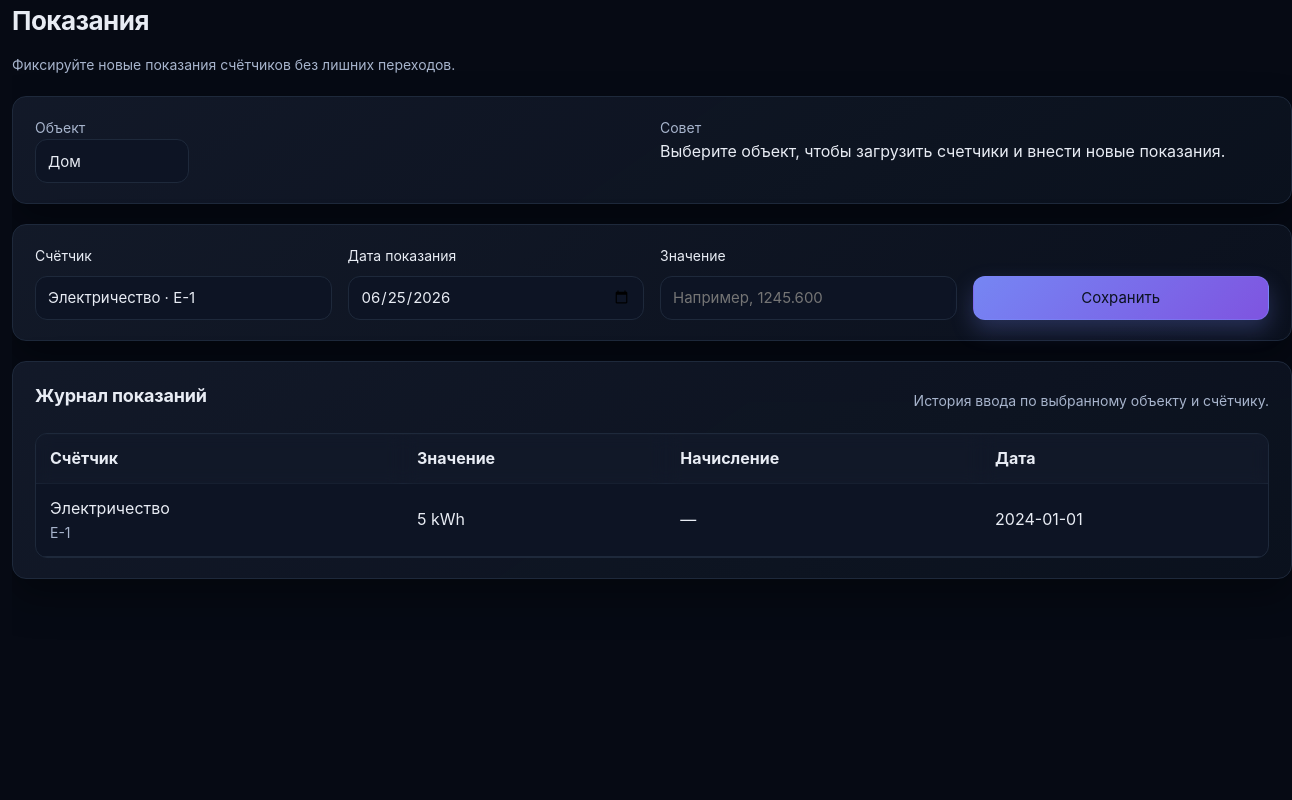
ReadingsPage › loads meters and validates input
The image size is (1292, 800).
Expected: the heading "Журнал показаний" is shown, top-left (35, 382), bottom-right (207, 411)
Select "Электричество · E-1" in the dropdown labelled "Счётчик" at (183, 298), box top-left (35, 276), bottom-right (332, 320)
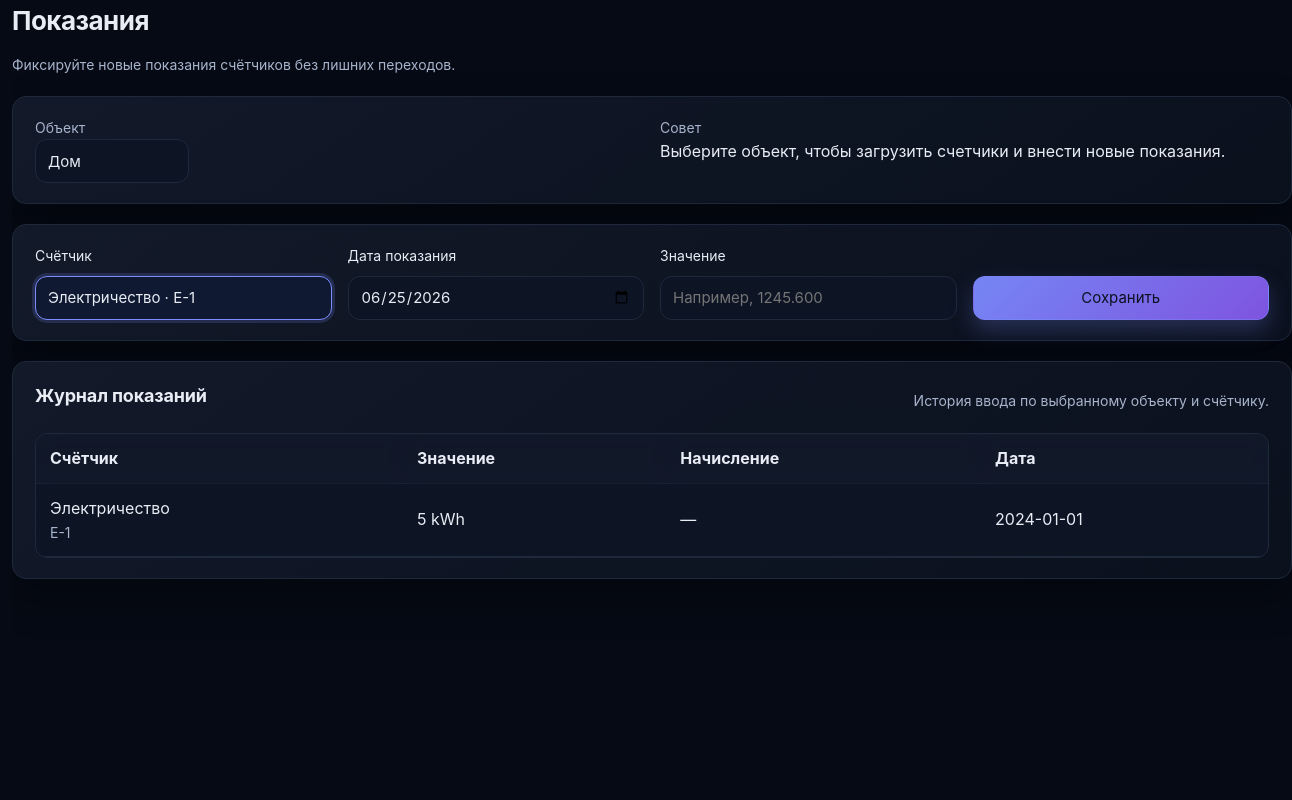
Expected: the text "5 kWh" is shown, top-left (403, 484), bottom-right (666, 557)
Type "0" into the number field labelled "Значение".
click(808, 298); type("0")  # box top-left (660, 276), bottom-right (956, 320)
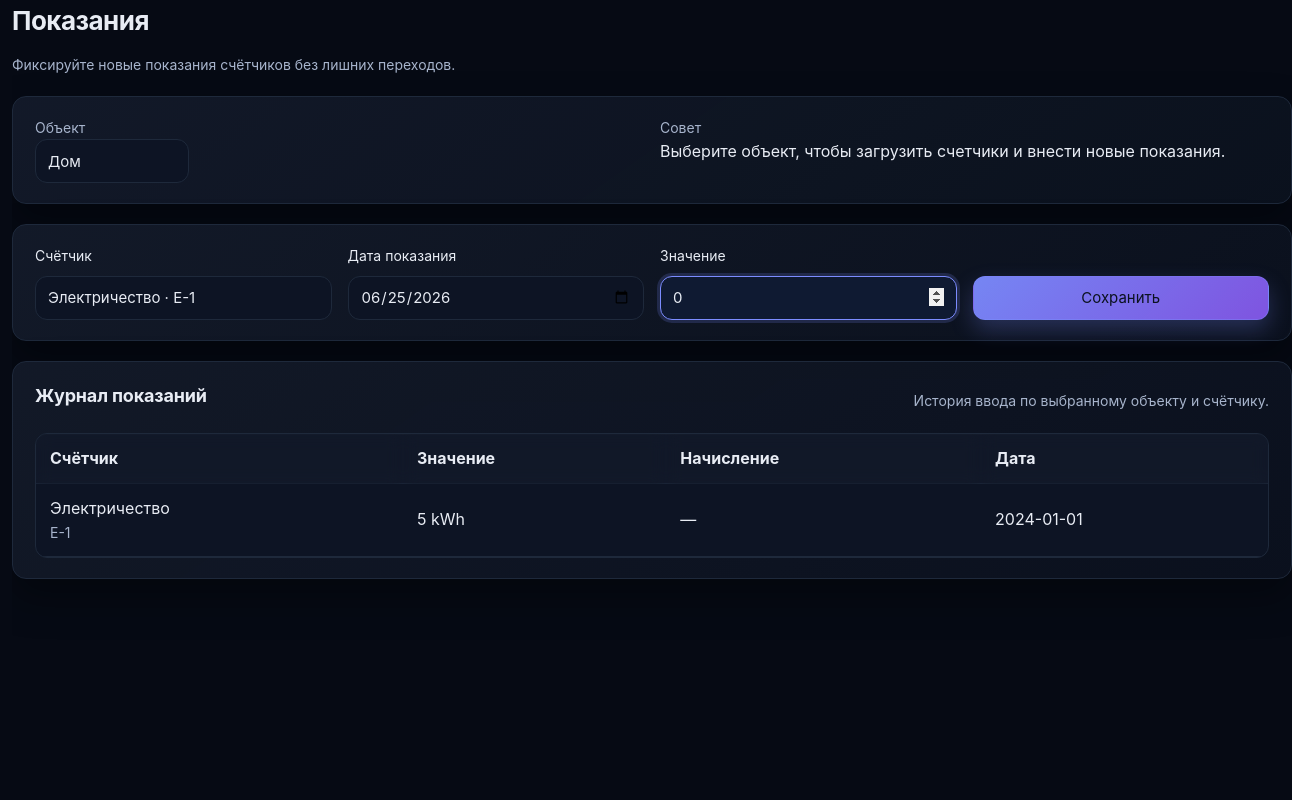
Click the button "Сохранить".
click(1121, 298)  # box top-left (972, 276), bottom-right (1269, 320)
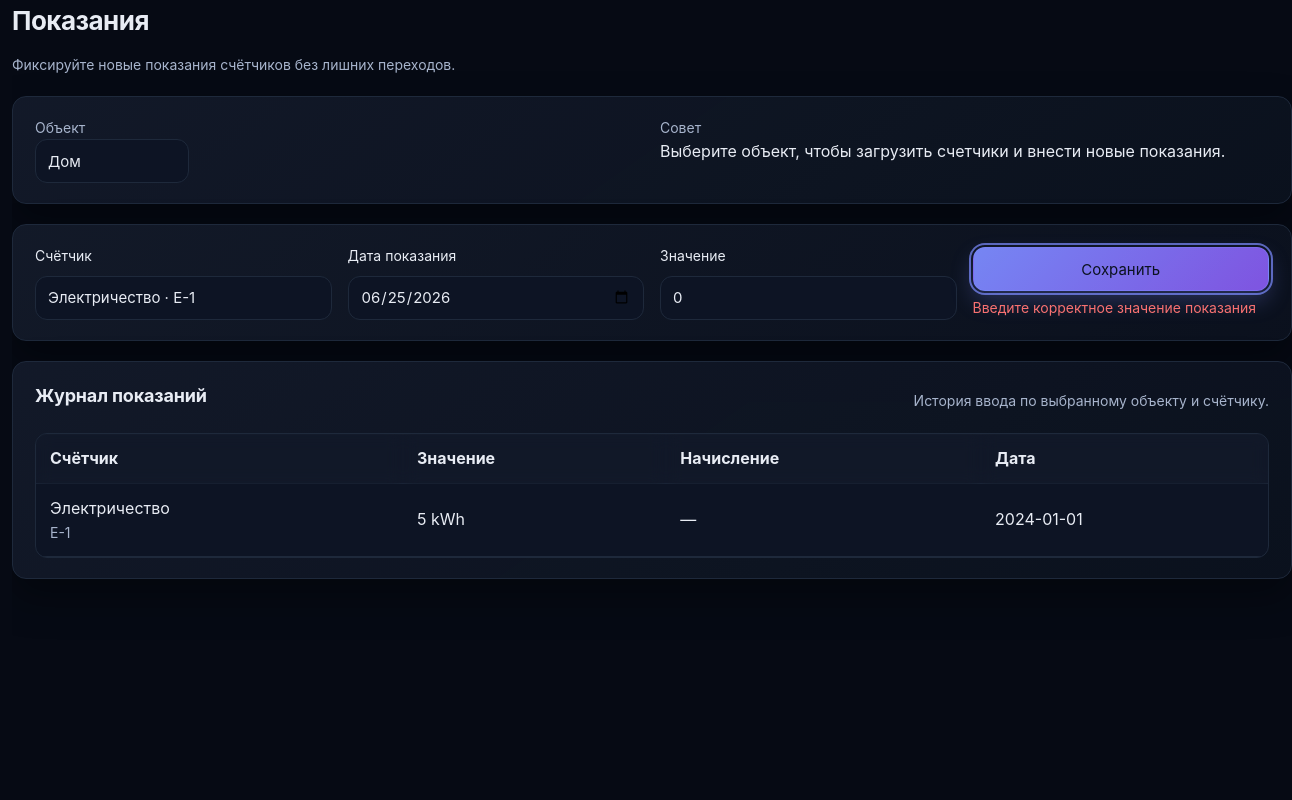
Result: the text "Введите корректное значение показания" is shown at top-left (972, 297), bottom-right (1269, 320)
